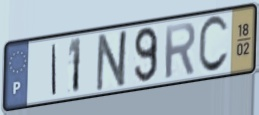1: (67, 35, 83, 97)
9: (133, 24, 160, 87)
C: (196, 14, 230, 77)
I: (50, 43, 59, 98)
N: (94, 27, 132, 94)
R: (163, 20, 198, 81)
